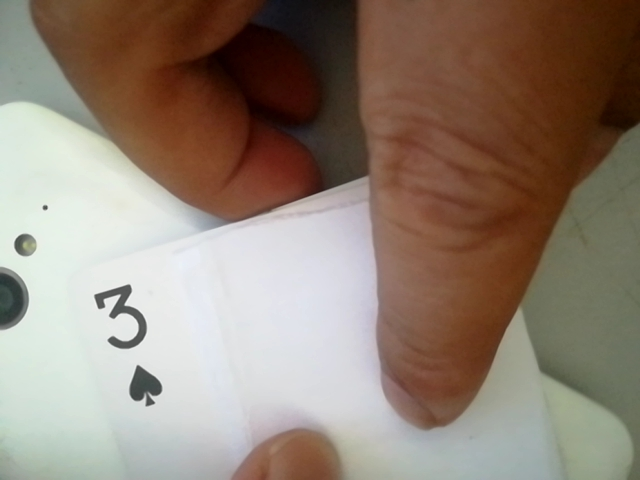ht 3: (85, 267, 169, 417)
